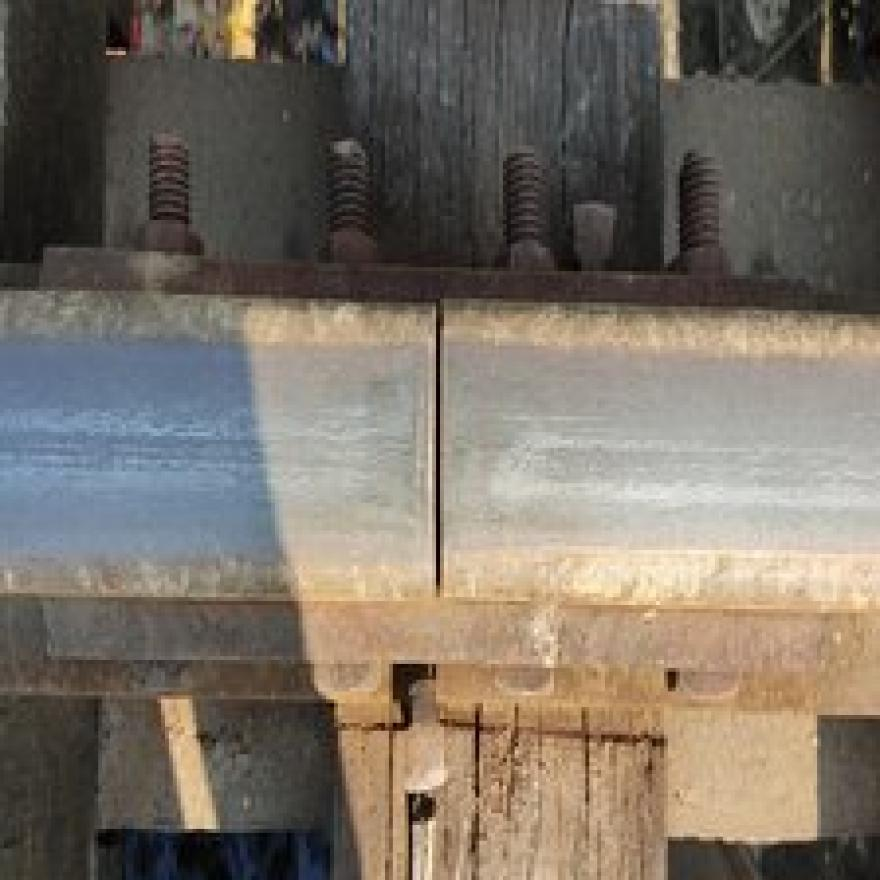railway-gap: (227, 267, 650, 665)
